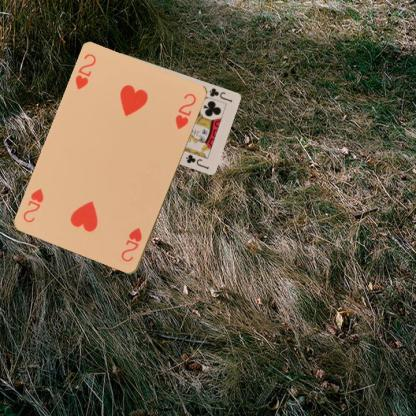2h: (72, 52, 98, 92), (118, 225, 144, 263)
Jc: (206, 86, 234, 104)
